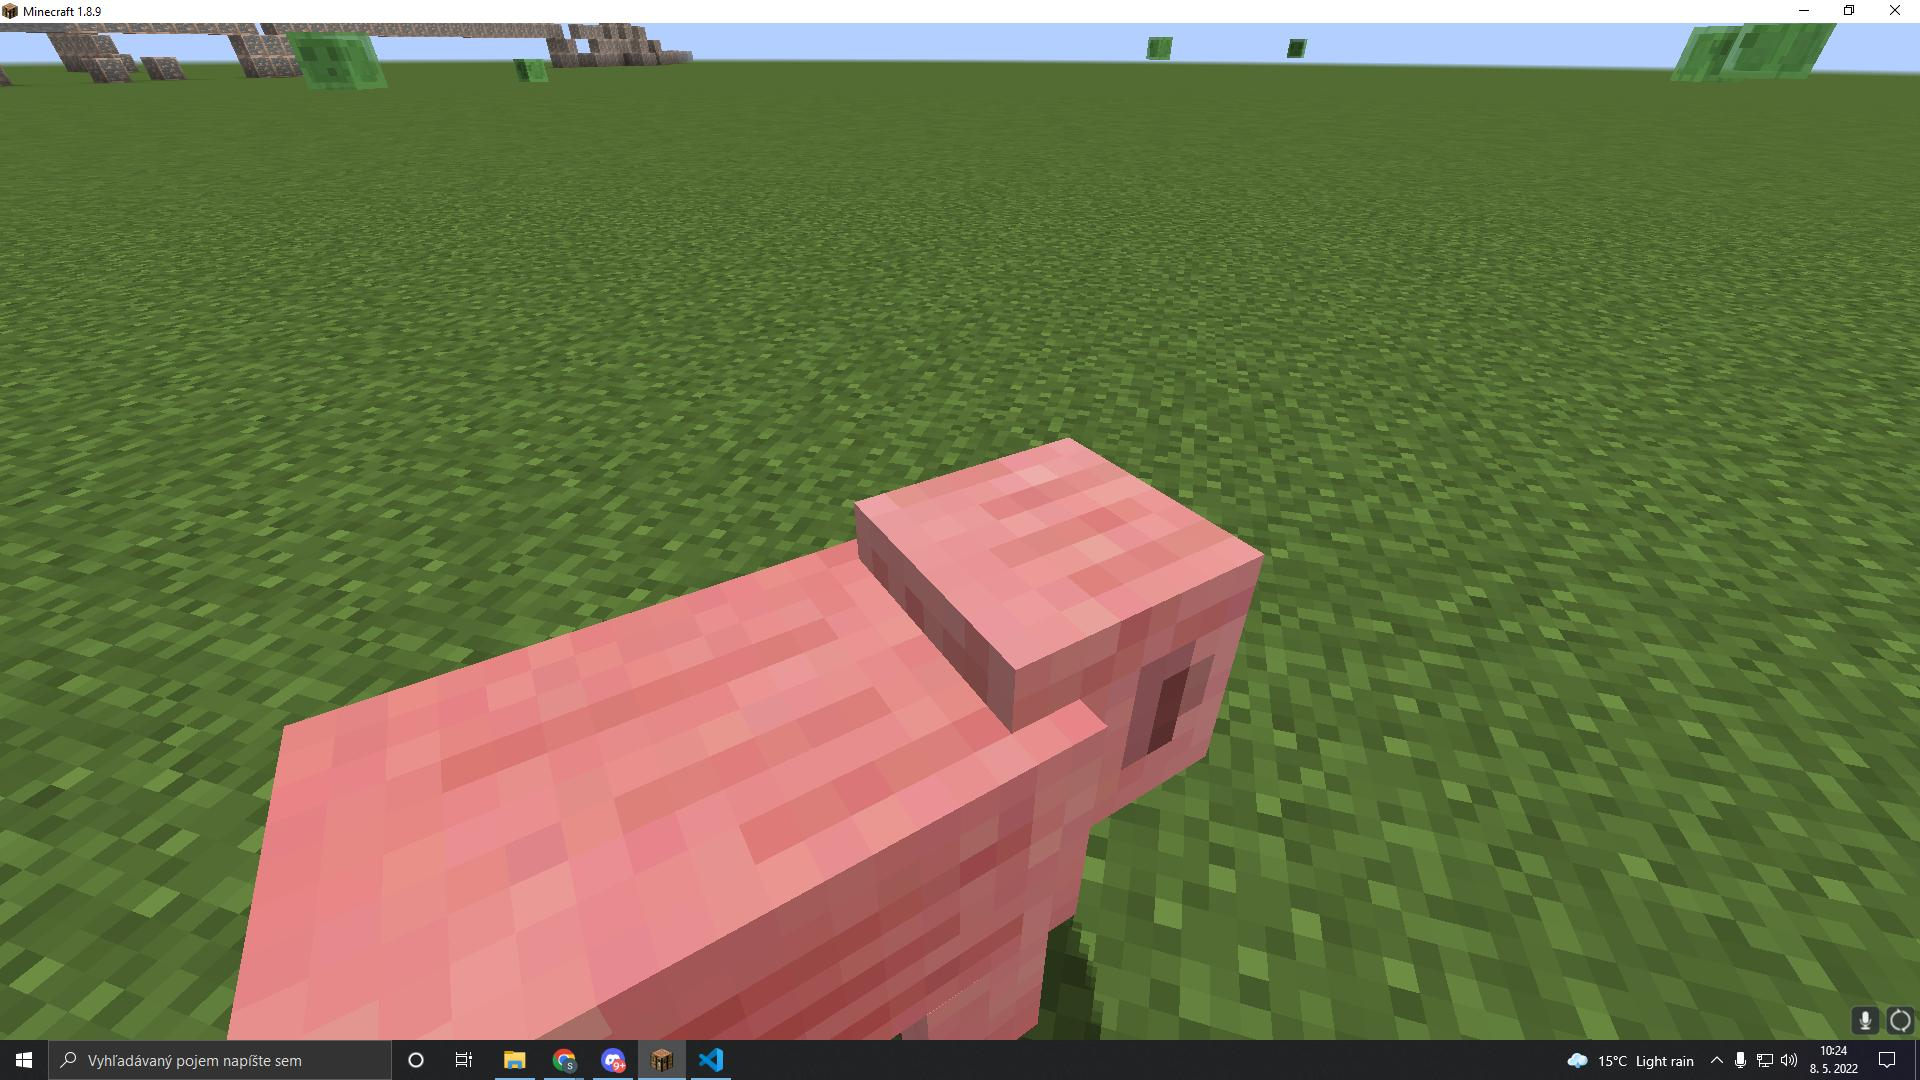pig: (214, 418, 1291, 1035)
